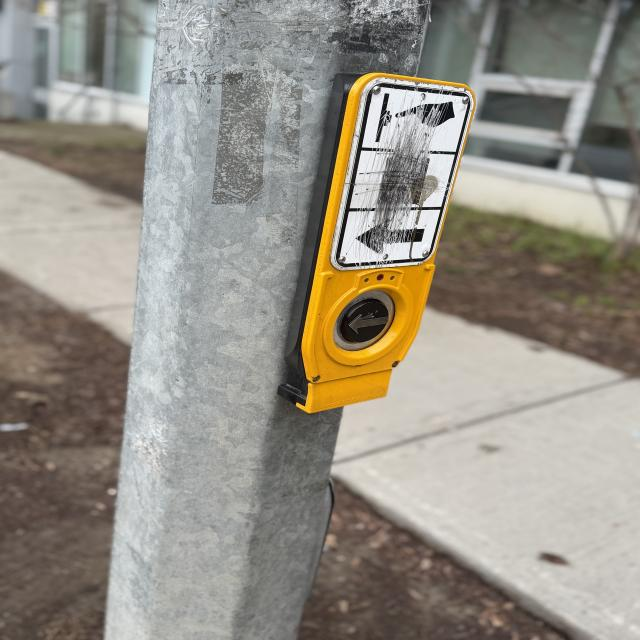Electrical Pole: (91, 2, 482, 639)
